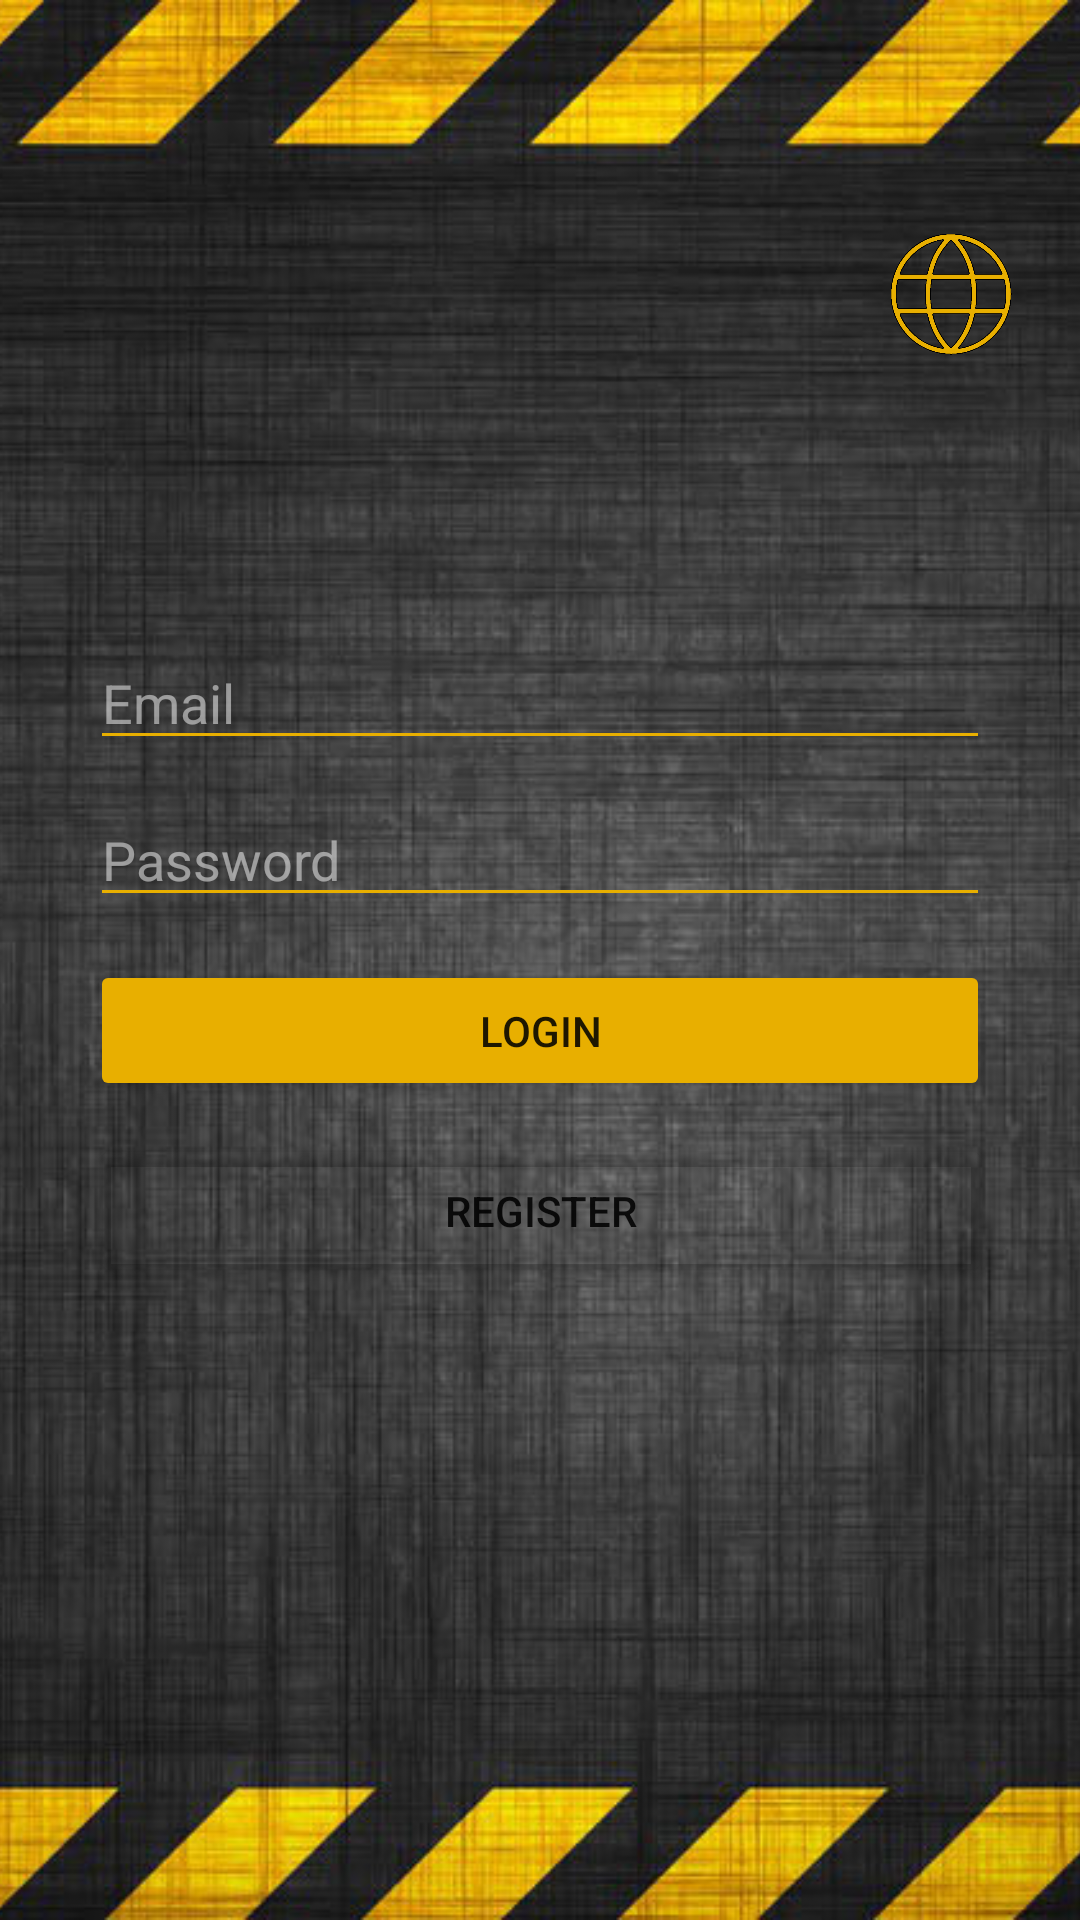

Icon bounding boxes for this 1080*1920 phone screenshot, format (left=x1, top=y1, right=x2, bottom=y2):
change lang: (left=891, top=234, right=1012, bottom=355)
